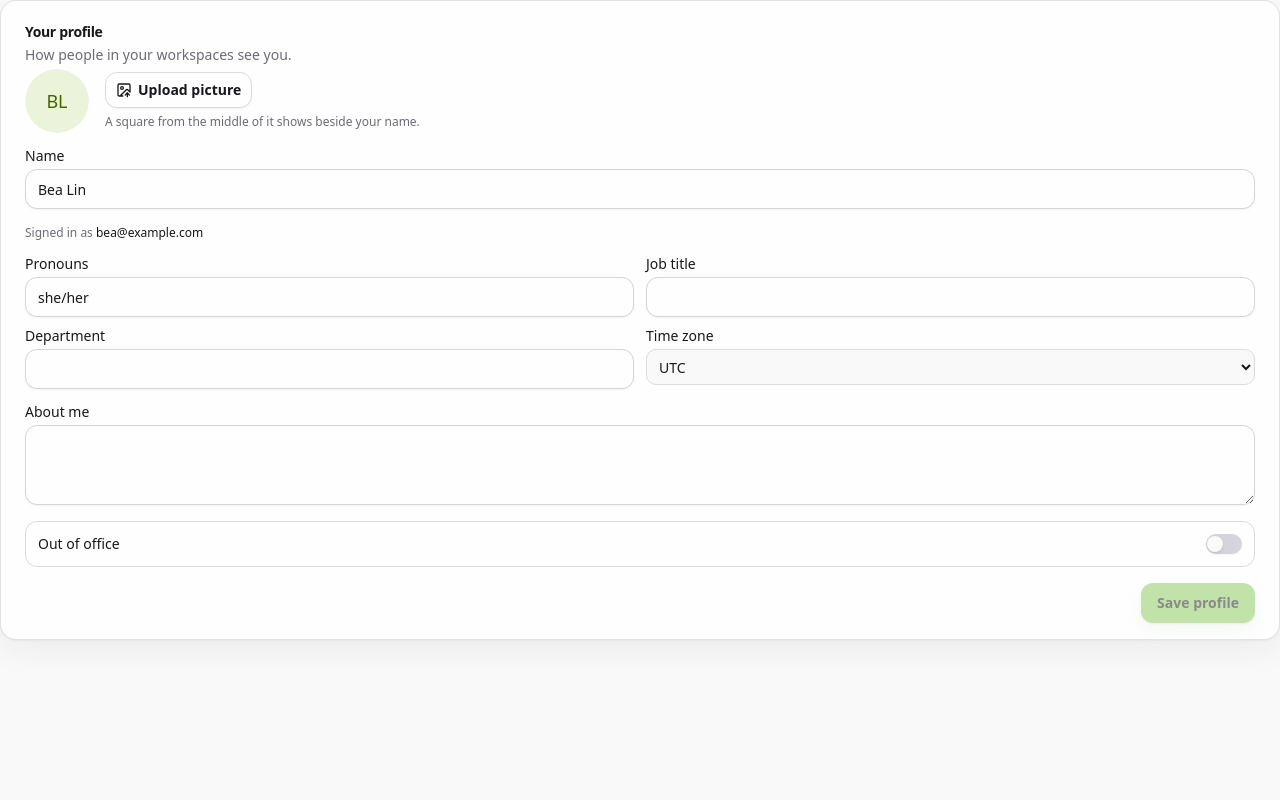
Test: ProfileCard › will not save time off that ends before it starts, or an empty name
The width and height of the screenshot is (1280, 800).
Click the switch: (1224, 544) [1206,534,1242,554]
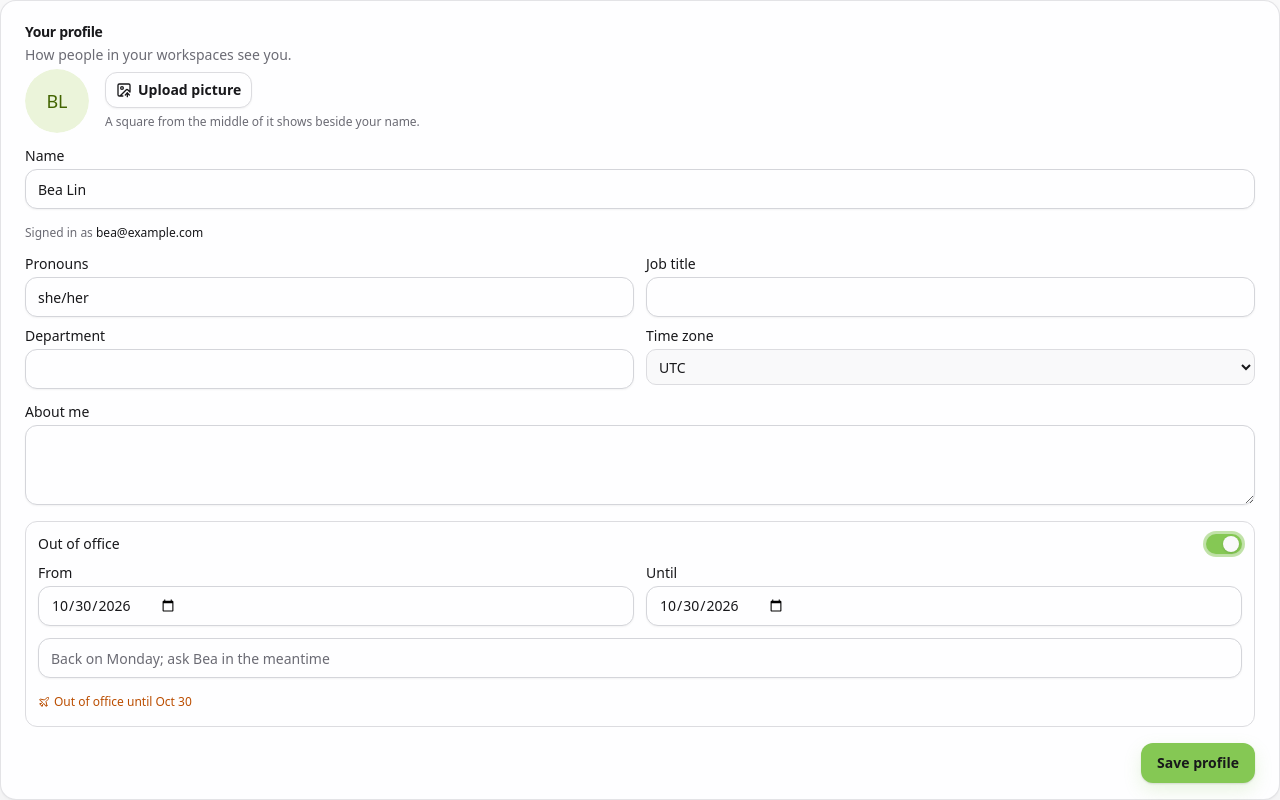
In the date field labelled "From": (336, 606) [38,586,634,626], type "2026-10-23"
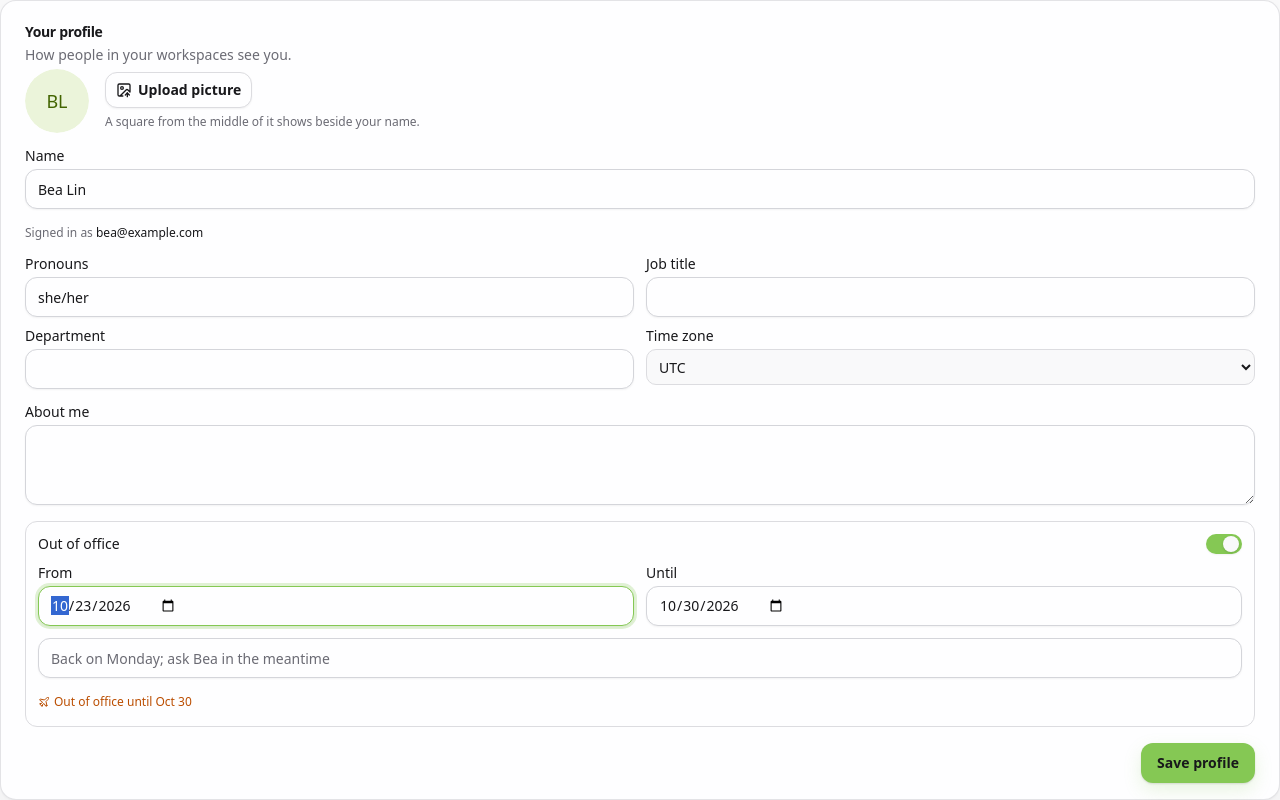
In the date field labelled "Until": (944, 606) [646,586,1242,626], type "2026-10-19"
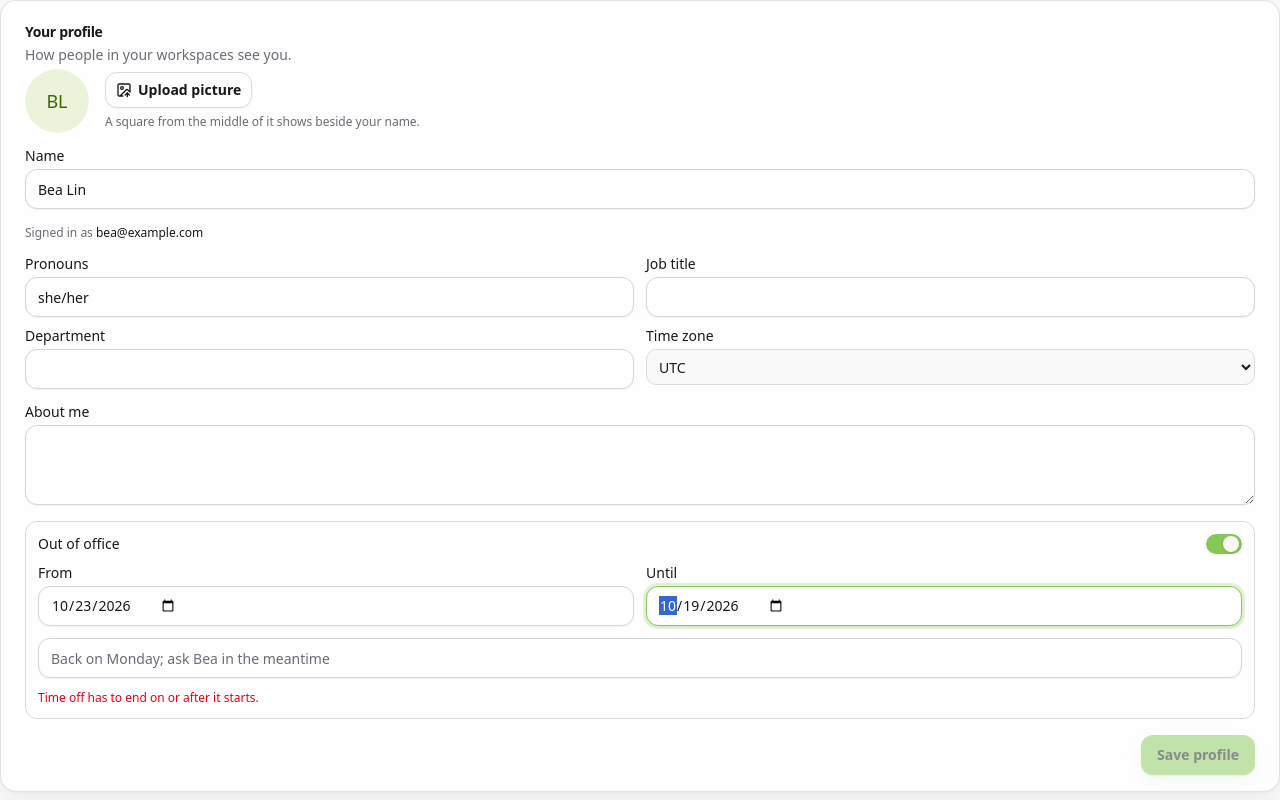
Result: the text "Time off has to end on or after it starts." is shown at [38,689,259,706]
Result: the button "Save profile" is disabled at [1141,735,1255,775]
Click the switch: (1224, 544) [1206,534,1242,554]
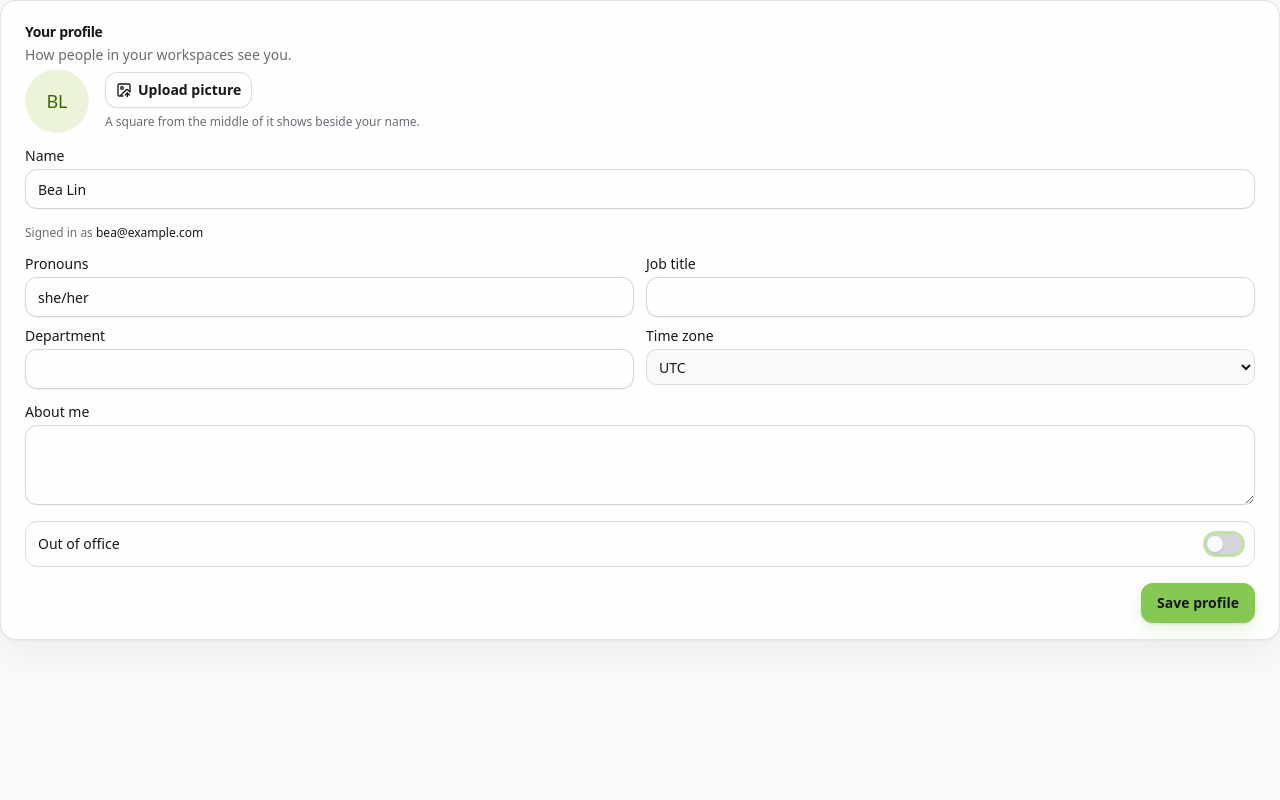
Clear the field labelled "Name": (640, 189) [25,169,1255,209]
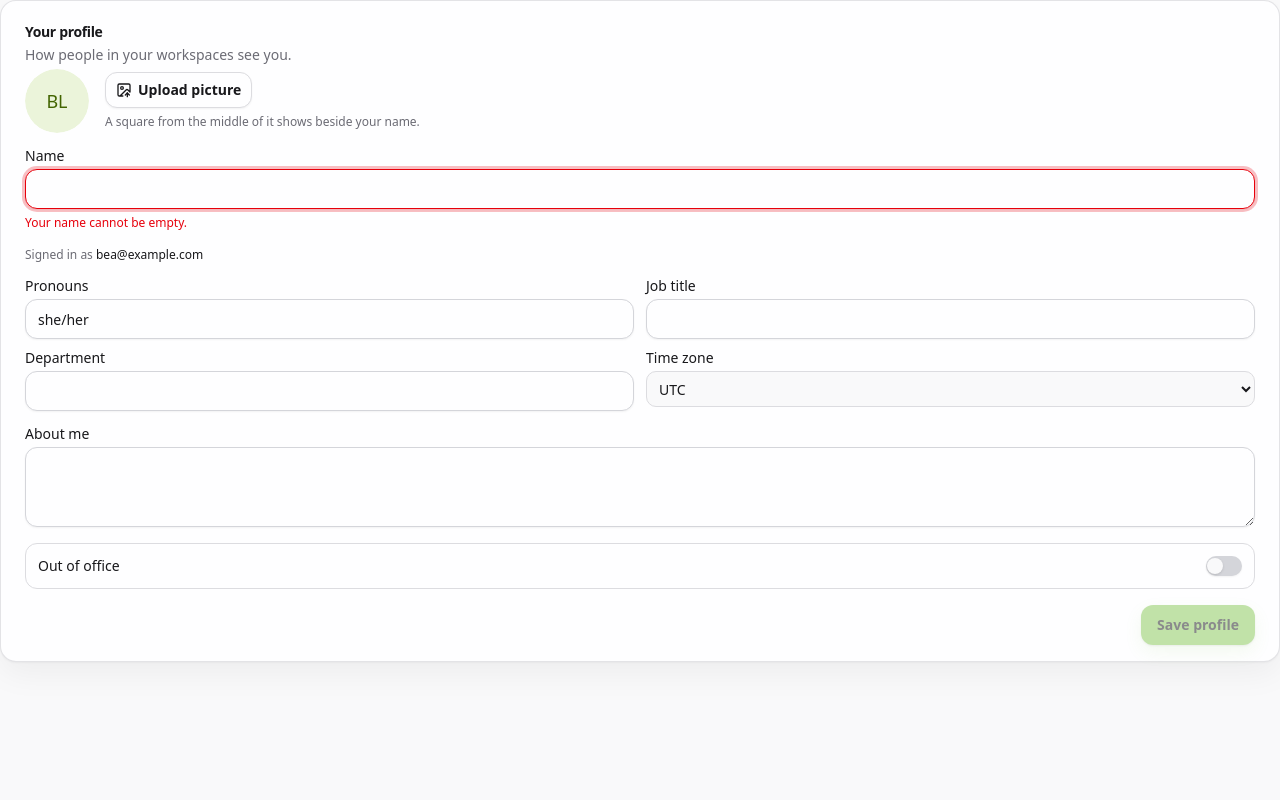
Result: the text "Your name cannot be empty." is shown at [25,214,187,231]
Result: the button "Save profile" is disabled at [1141,605,1255,645]
